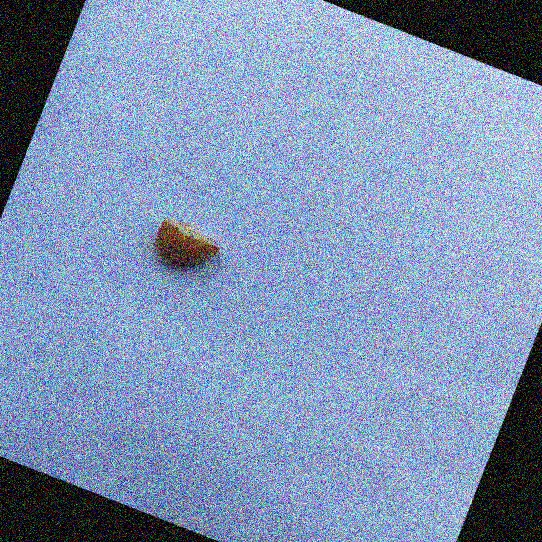grade4: (141, 209, 232, 286)
